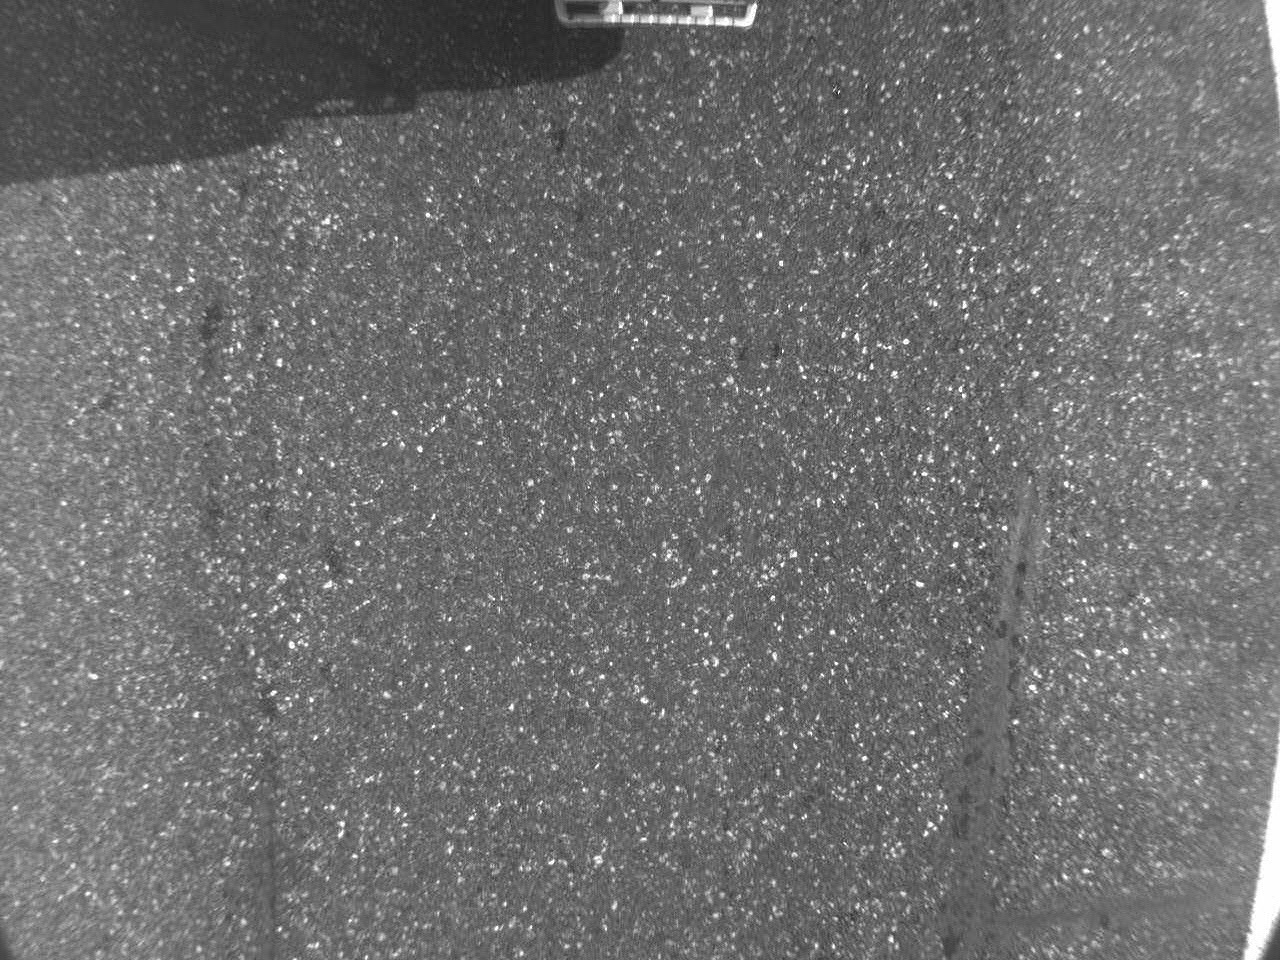sealed: (947, 467, 1043, 950)
